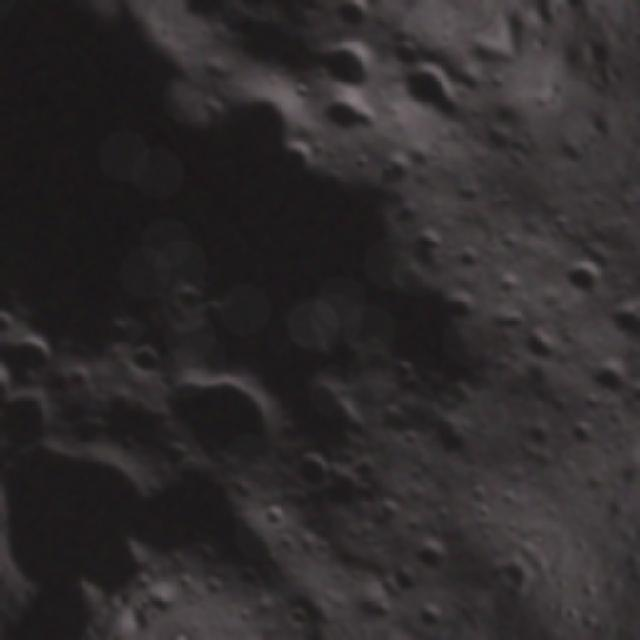crater: (144, 340, 304, 502), (393, 50, 478, 136), (597, 258, 640, 394), (313, 29, 387, 102), (512, 318, 570, 376), (583, 351, 639, 406), (321, 90, 377, 145), (408, 527, 462, 581), (436, 283, 490, 337), (120, 334, 174, 388), (558, 250, 612, 302), (8, 324, 62, 376), (294, 448, 344, 498), (449, 239, 497, 286), (368, 149, 415, 196), (559, 414, 603, 458), (164, 276, 208, 319), (375, 398, 417, 442), (438, 372, 482, 414), (100, 388, 142, 432), (407, 595, 450, 637), (412, 223, 454, 266), (490, 264, 533, 305), (0, 345, 23, 417), (390, 34, 430, 74), (481, 122, 521, 162), (329, 0, 373, 35), (385, 560, 424, 598), (194, 91, 232, 129), (195, 294, 234, 331), (372, 492, 408, 530), (281, 601, 316, 636), (553, 133, 587, 169), (258, 498, 292, 533), (523, 420, 557, 454), (390, 352, 424, 386), (480, 65, 512, 98), (0, 300, 25, 342), (148, 587, 180, 619), (288, 0, 332, 23), (545, 209, 577, 240), (360, 327, 391, 358), (64, 363, 95, 394), (498, 512, 528, 543), (272, 528, 303, 558), (498, 484, 528, 513), (629, 382, 640, 460), (434, 22, 464, 50), (309, 535, 337, 563), (430, 499, 458, 527), (232, 602, 260, 629), (202, 573, 229, 601), (230, 0, 279, 14), (472, 501, 498, 527), (346, 563, 369, 586), (175, 570, 198, 592), (248, 634, 301, 640)
